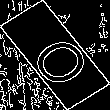O_NE: (17, 23, 93, 87)
